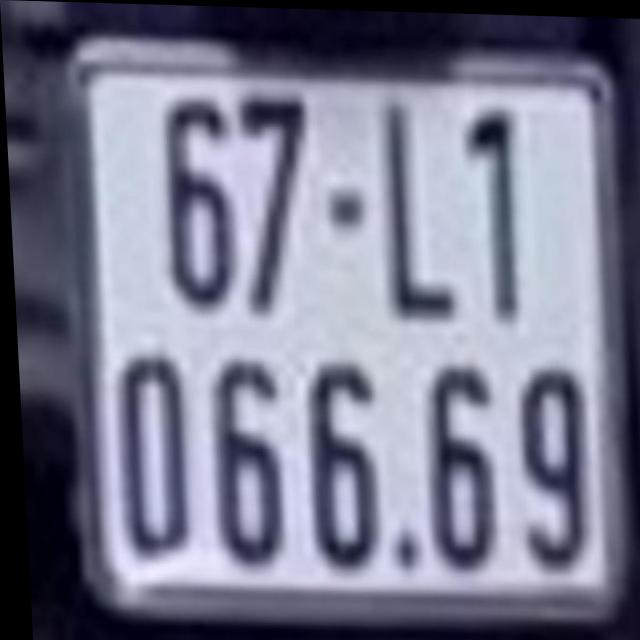0: (116, 351, 187, 550)
1: (467, 89, 517, 311)
6: (292, 355, 374, 558), (158, 90, 230, 306), (204, 356, 277, 566), (420, 361, 493, 566)
7: (235, 90, 317, 322)
9: (512, 357, 583, 574)
L: (381, 90, 459, 314)
